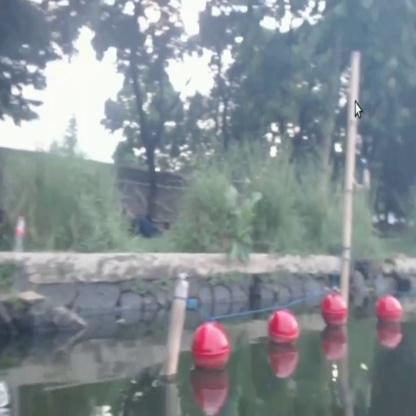red_buoy: (190, 323, 230, 375), (266, 309, 299, 353), (376, 295, 402, 337), (324, 294, 346, 328)
